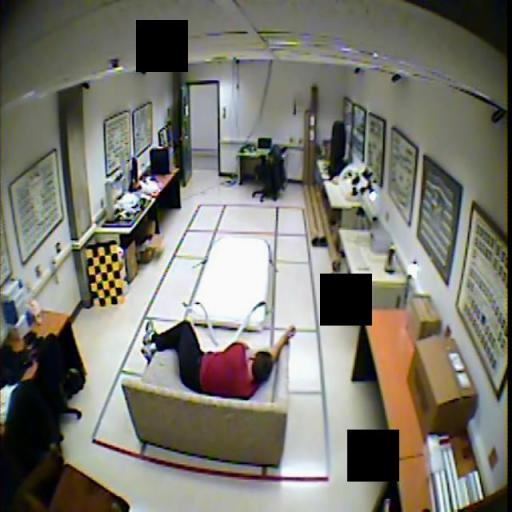Fall: (140, 320, 298, 400)
